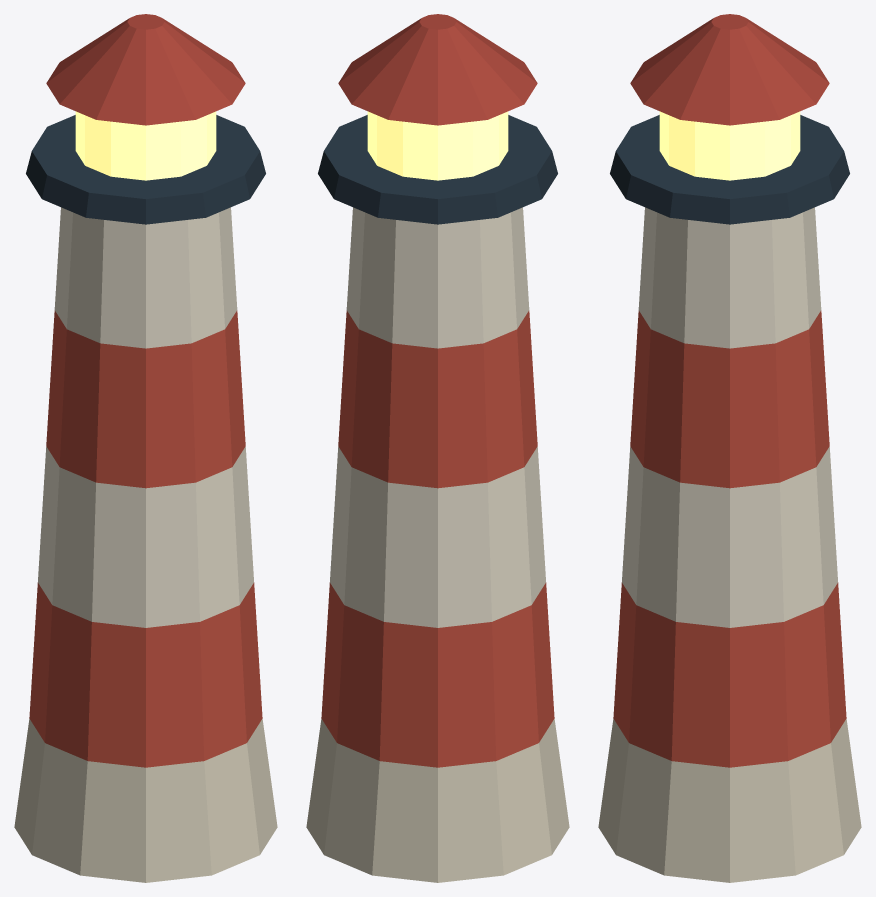
File: lighthouse.glb
3 renders of one model, left to right at view 1: azimuth 30°, elevation 25°; view 2: azimuth 150°, elevation 25°; view 3: azimuth 270°, elevation 25°, orthographic.
Parts seen in each view (by area): view 1: lighthouse; view 2: lighthouse; view 3: lighthouse.
Boxes of the visible parts, x1,y1,x2,y2 form: lighthouse: (14,14,277,882); lighthouse: (306,14,569,882); lighthouse: (598,14,861,882).
Bounding box in the file's own units: 4.38 × 14.79 × 4.38.
